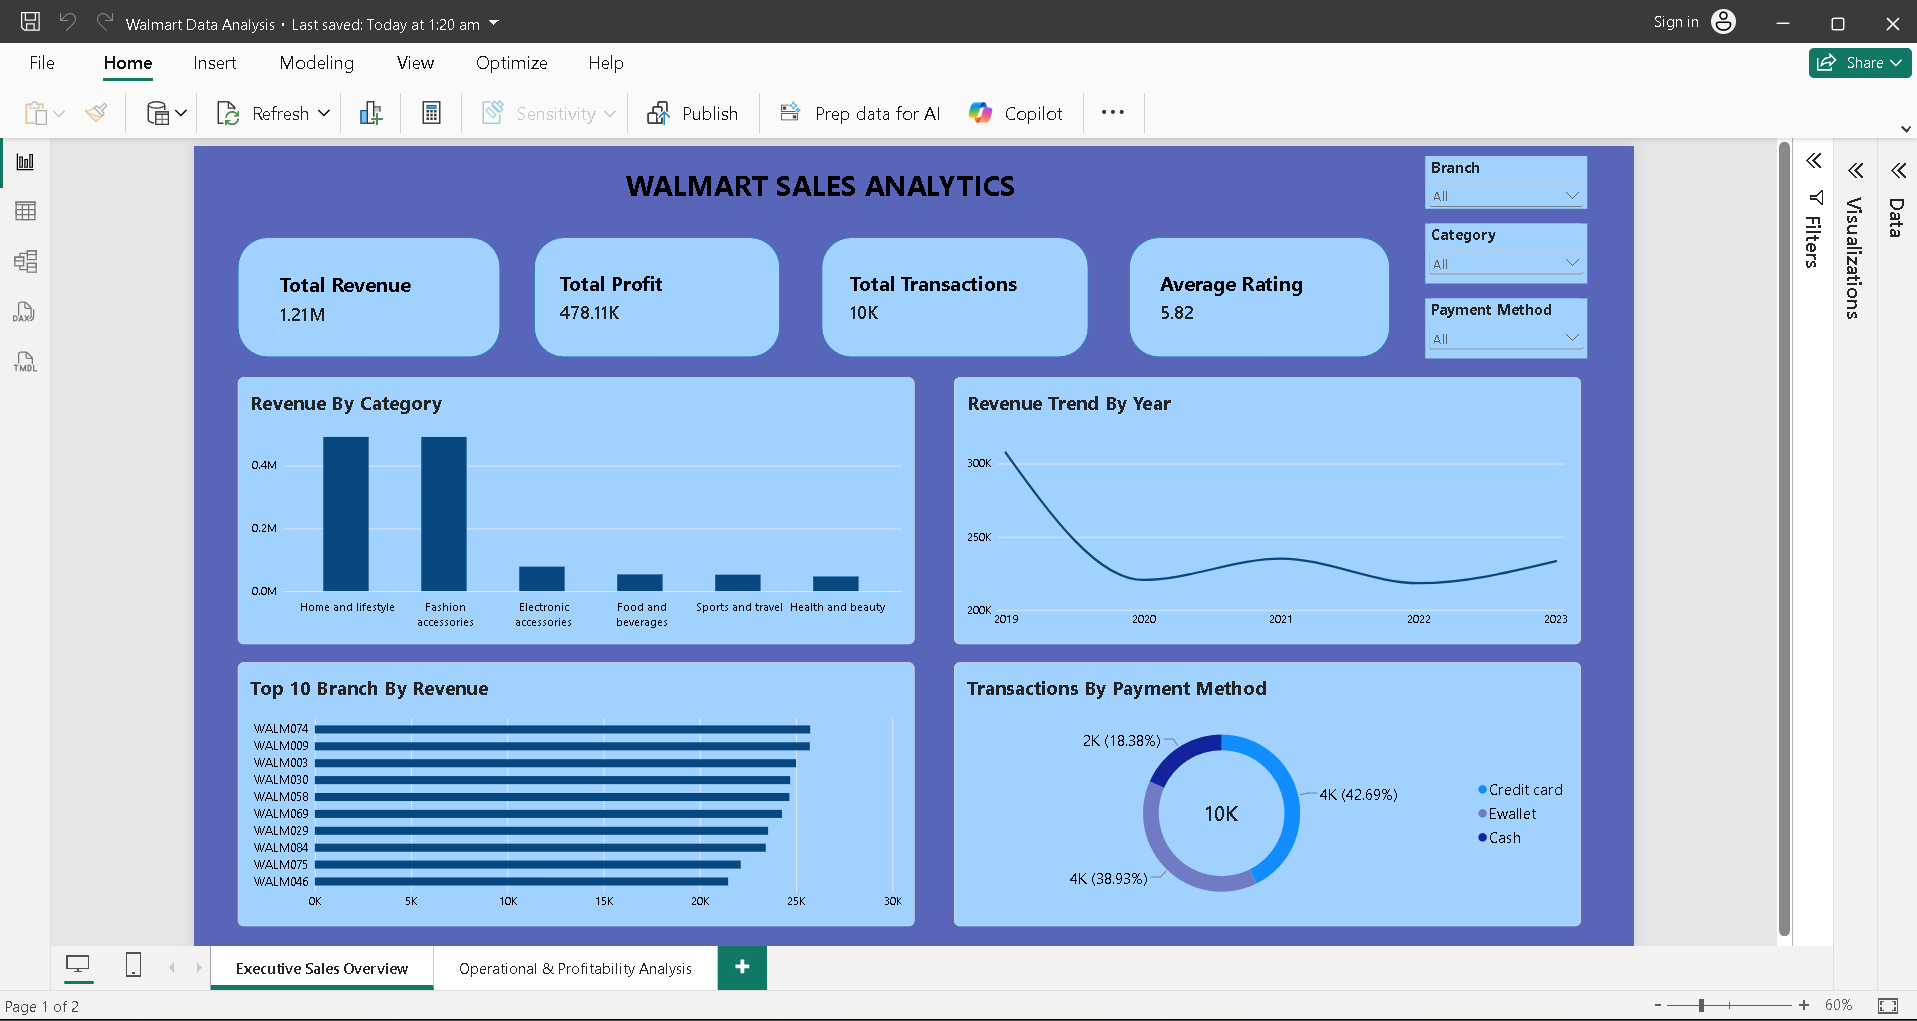

The dashboard page shown, as its layout file describes it:
{"tool":"powerbi","page":{"name":"Executive Sales Overview","canvas":[1920,1080],"ordinal":0},"visuals":[{"type":"textbox","box":[76,26,1518,62],"z":0},{"type":"shape","box":[58,122,350,160],"z":1000},{"type":"shape","box":[454,122,328,160],"z":2000},{"type":"shape","box":[836,122,356,160],"z":3000},{"type":"shape","box":[1246,122,348,160],"z":4000},{"type":"textbox","box":[58,344,380,160],"z":5000},{"type":"cardVisual","fields":{"Data":["walmart_sales.Total Profit"]},"box":[472,122,262,160],"z":6000},{"type":"cardVisual","fields":{"Data":["walmart_sales.Total Revenue"]},"box":[98,124,302,160],"z":7000},{"type":"cardVisual","fields":{"Data":["walmart_sales.Total Transactions"]},"box":[858,122,268.6,160],"z":8000},{"type":"cardVisual","fields":{"Data":["walmart_sales.Average Rating"]},"box":[1272,122,260,160],"z":9000},{"type":"clusteredColumnChart","title":"Revenue By Category","fields":{"Category":["walmart_sales.category"],"Y":["walmart_sales.Total Revenue"]},"box":[58,308,902,356],"z":10000},{"type":"lineChart","title":"Revenue Trend By Year","fields":{"Category":["walmart_sales.date.Variation.Date Hierarchy.Year","walmart_sales.date.Variation.Date Hierarchy.Quarter","walmart_sales.date.Variation.Date Hierarchy.Month","walmart_sales.date.Variation.Date Hierarchy.Day"],"Y":["walmart_sales.Total Revenue"]},"box":[1014,308,836,356],"z":11000},{"type":"barChart","title":"Top 10 Branch By Revenue","fields":{"Category":["walmart_sales.branch"],"Y":["walmart_sales.Total Revenue"]},"box":[58,688,902,352],"z":12000},{"type":"donutChart","title":"Transactions By Payment Method","fields":{"Category":["walmart_sales.payment_method"],"Y":["walmart_sales.Total Transactions"]},"box":[1014,688,836,352],"z":13000},{"type":"slicer","fields":{"Values":["walmart_sales.branch"]},"box":[1642,14,216,70],"z":13001},{"type":"slicer","fields":{"Values":["walmart_sales.category"]},"box":[1642,104,216,80],"z":13002},{"type":"slicer","fields":{"Values":["walmart_sales.payment_method"]},"box":[1642,204,216,80],"z":13003}]}

Visuals, with their boxes on the page's 1920x1080 design canvas (x1, y1, x2, y2). These are canvas units, not pixel positions in the 1917x1021 screenshot, which may show the page scaled, cropped or inside an application window:
textbox: select_region(76, 26, 1594, 88)
shape: select_region(58, 122, 408, 282)
shape: select_region(454, 122, 782, 282)
shape: select_region(836, 122, 1192, 282)
shape: select_region(1246, 122, 1594, 282)
textbox: select_region(58, 344, 438, 504)
cardVisual - walmart_sales.Total Profit: select_region(472, 122, 734, 282)
cardVisual - walmart_sales.Total Revenue: select_region(98, 124, 400, 284)
cardVisual - walmart_sales.Total Transactions: select_region(858, 122, 1127, 282)
cardVisual - walmart_sales.Average Rating: select_region(1272, 122, 1532, 282)
"Revenue By Category" clusteredColumnChart: select_region(58, 308, 960, 664)
"Revenue Trend By Year" lineChart: select_region(1014, 308, 1850, 664)
"Top 10 Branch By Revenue" barChart: select_region(58, 688, 960, 1040)
"Transactions By Payment Method" donutChart: select_region(1014, 688, 1850, 1040)
slicer - walmart_sales.branch: select_region(1642, 14, 1858, 84)
slicer - walmart_sales.category: select_region(1642, 104, 1858, 184)
slicer - walmart_sales.payment_method: select_region(1642, 204, 1858, 284)
